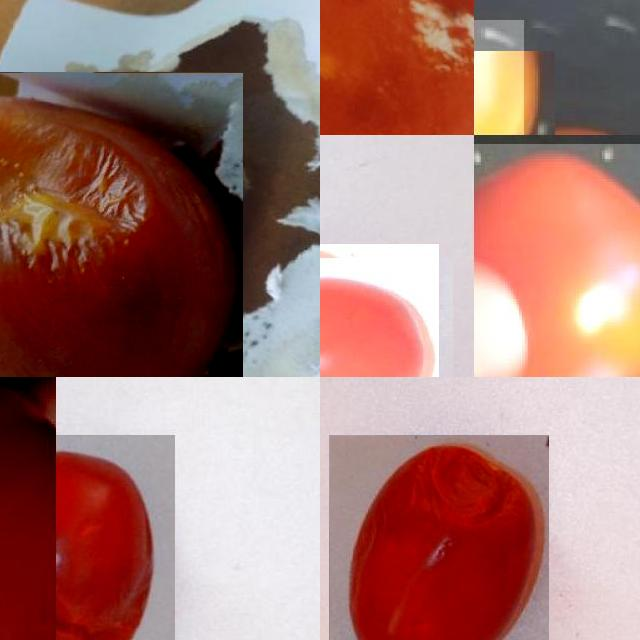0: (474, 143, 640, 377), (320, 244, 439, 377)
1: (329, 434, 549, 640), (320, 0, 474, 135)
Rotten Tomato: (0, 72, 242, 377), (56, 434, 174, 640)
